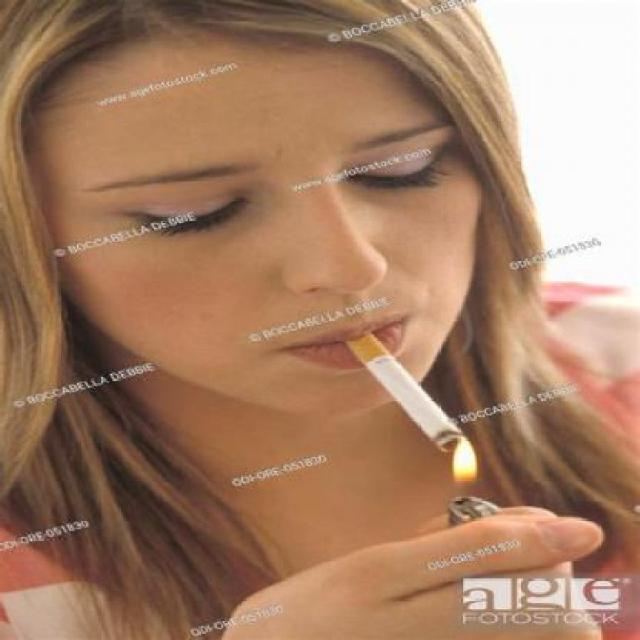cigarette: (335, 330, 487, 464)
